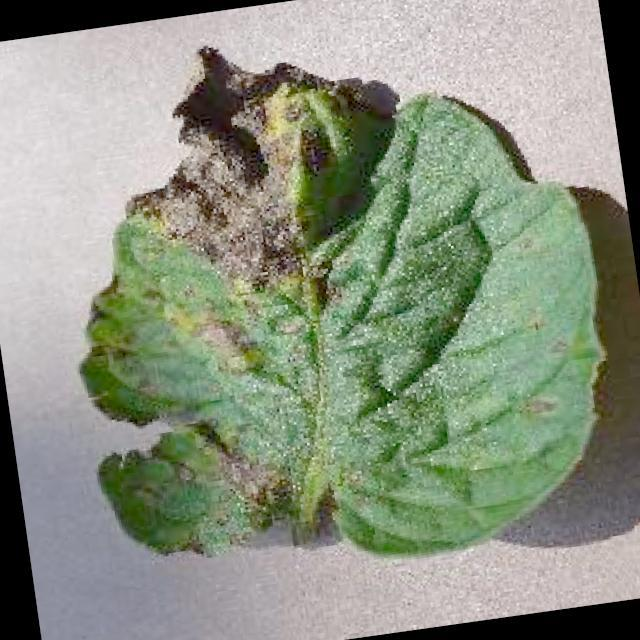Tomato Early blight leaf: (35, 0, 637, 605)
